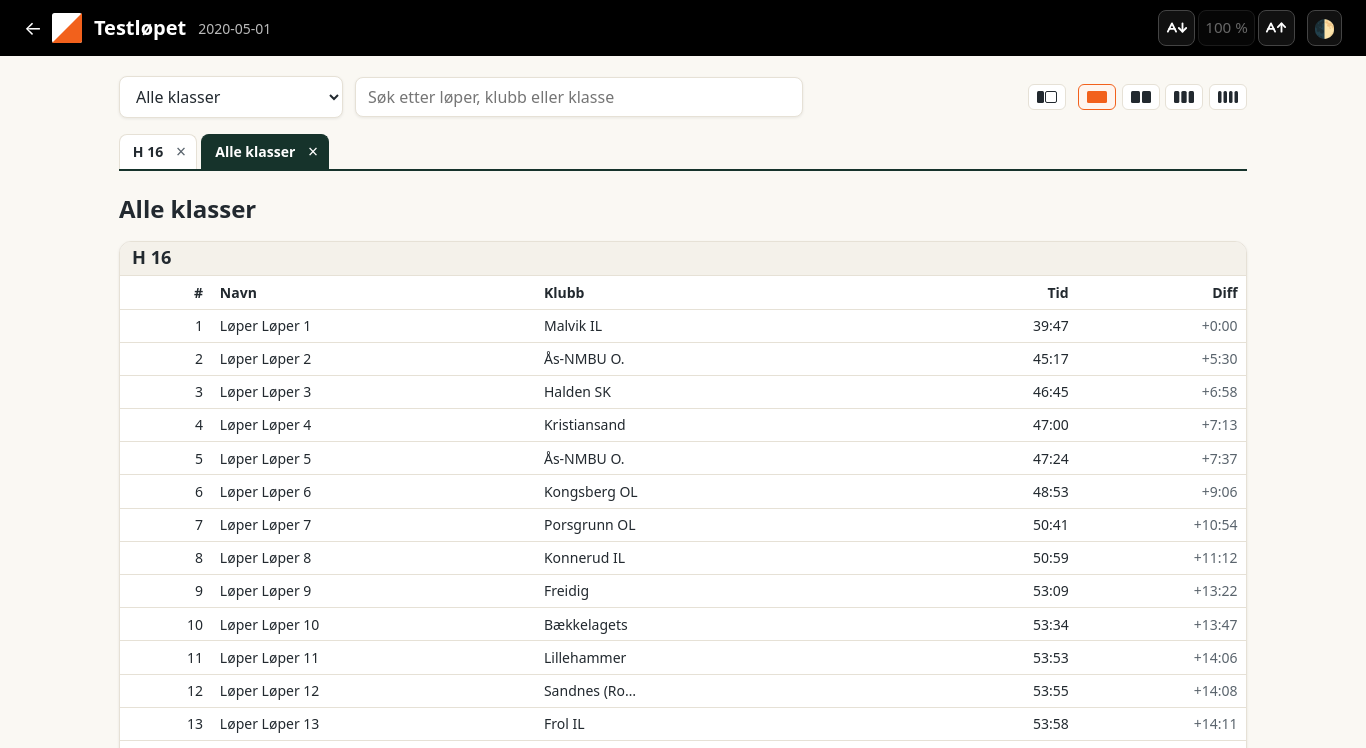
Scenario: App › has a class picker in each column when there is more than one
Check: the heading "Alle klasser" is shown, box [119, 192, 256, 225]
Click the button named "3". click: x=1184, y=97
box: [1165, 84, 1203, 110]
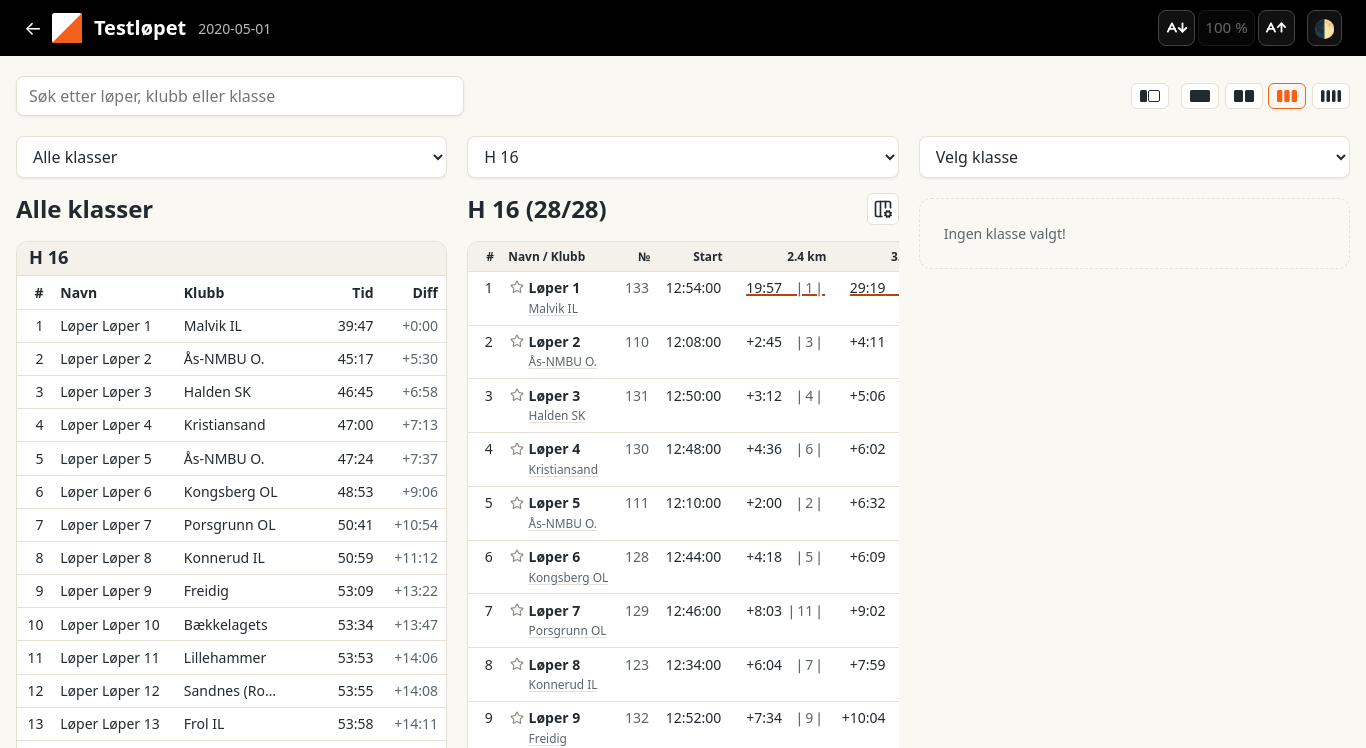
Check: the heading "H 16 (28/28)" is shown, box [467, 192, 607, 225]
Check: the text "Ingen klasse valgt!" is shown, box [919, 198, 1350, 269]
Select "Startliste" in the 3rd dropdown named "Velg klasse". click: x=1134, y=157
box: [919, 136, 1350, 178]
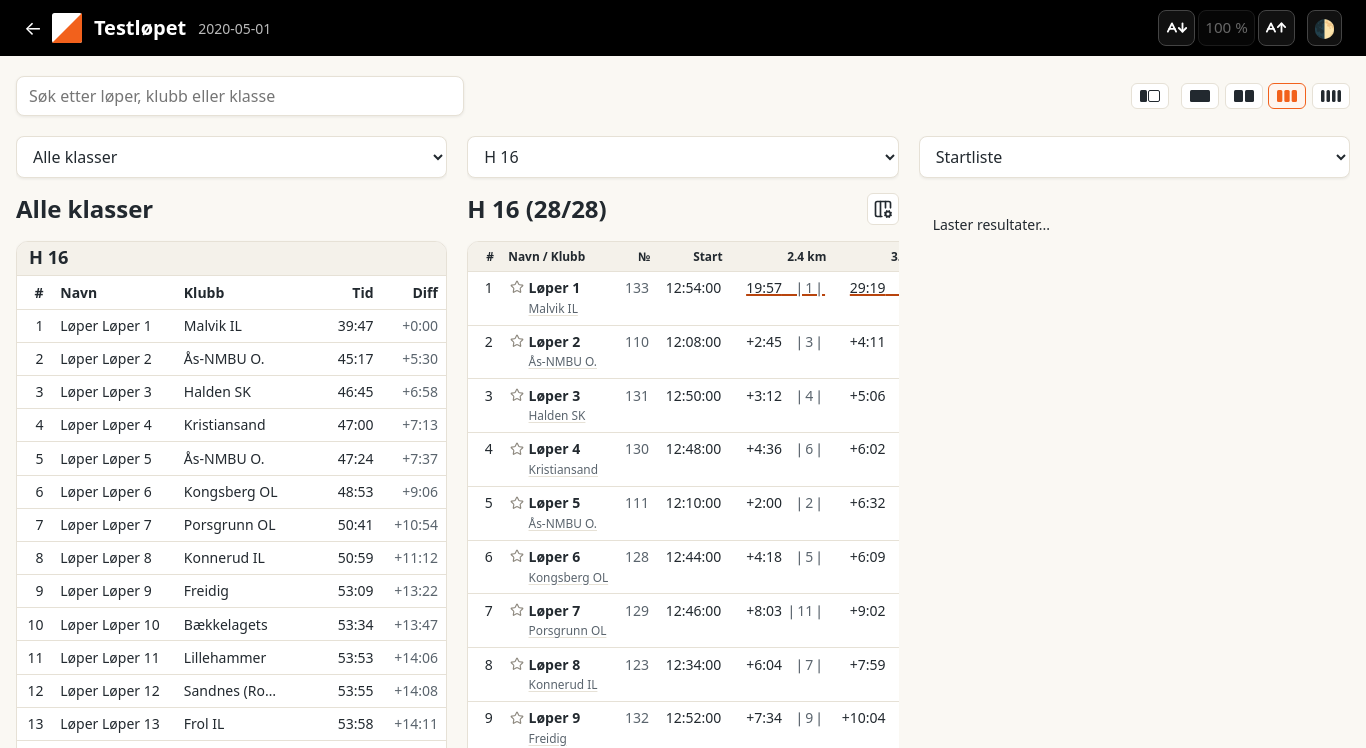
Check: the text "Ingen klasse valgt!" is gone
Click the button named "1". click: x=1200, y=96
box: [1181, 83, 1219, 109]
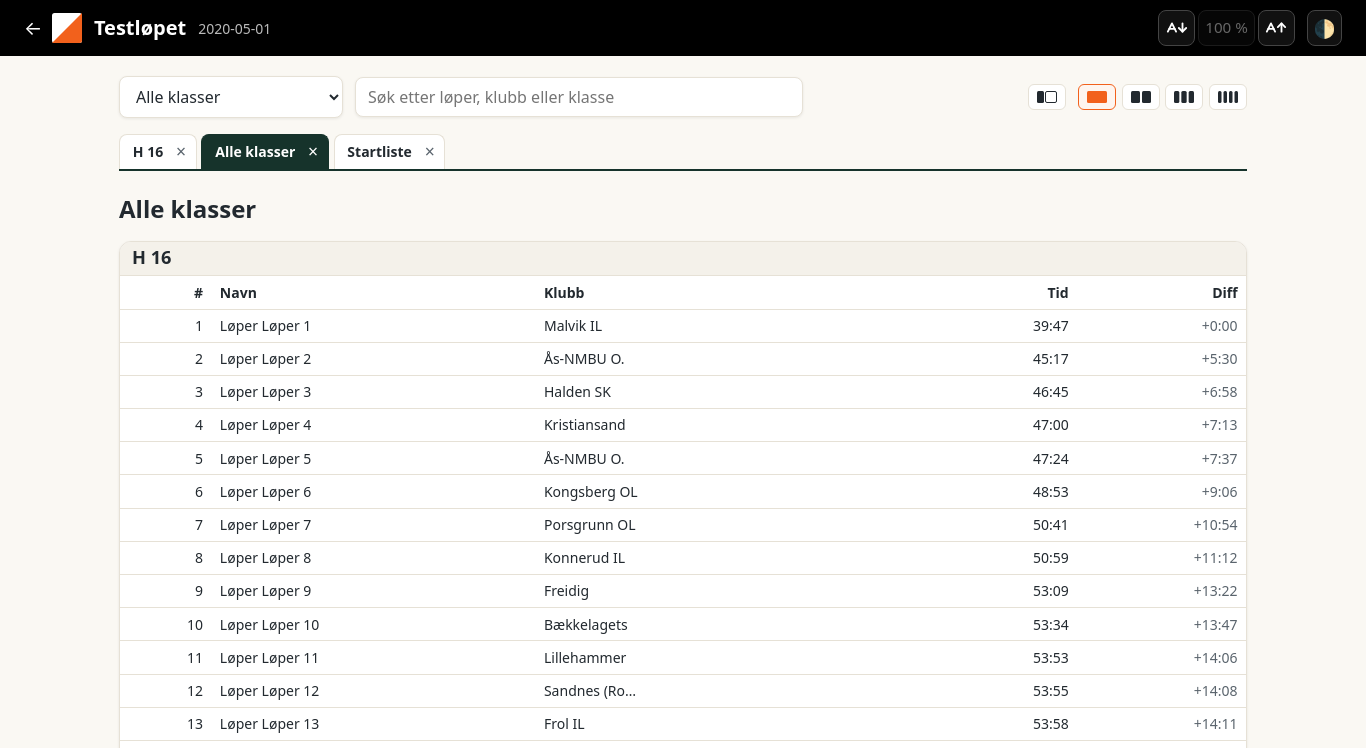
Check: the number of dropdowns named "Velg klasse" is 1, box [119, 76, 343, 118]
